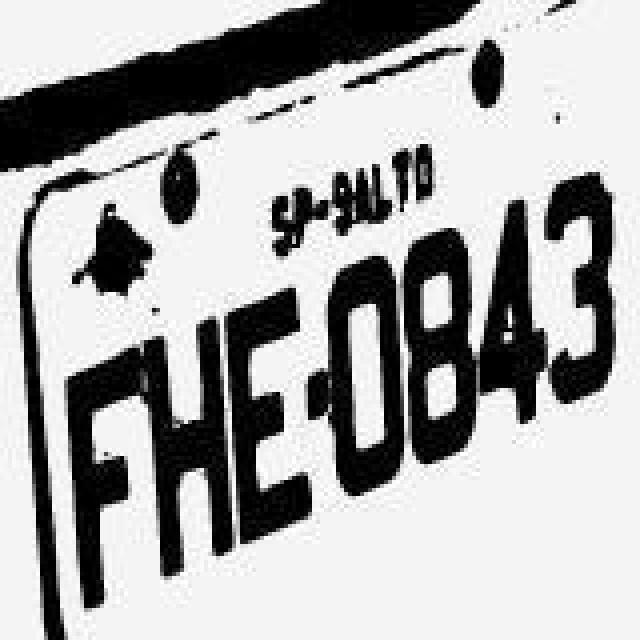3: (540, 172, 620, 420)
4: (468, 202, 548, 438)
8: (396, 226, 476, 478)
E: (228, 282, 316, 550)
F: (58, 340, 142, 612)
H: (138, 314, 230, 582)
O: (322, 248, 398, 504)
